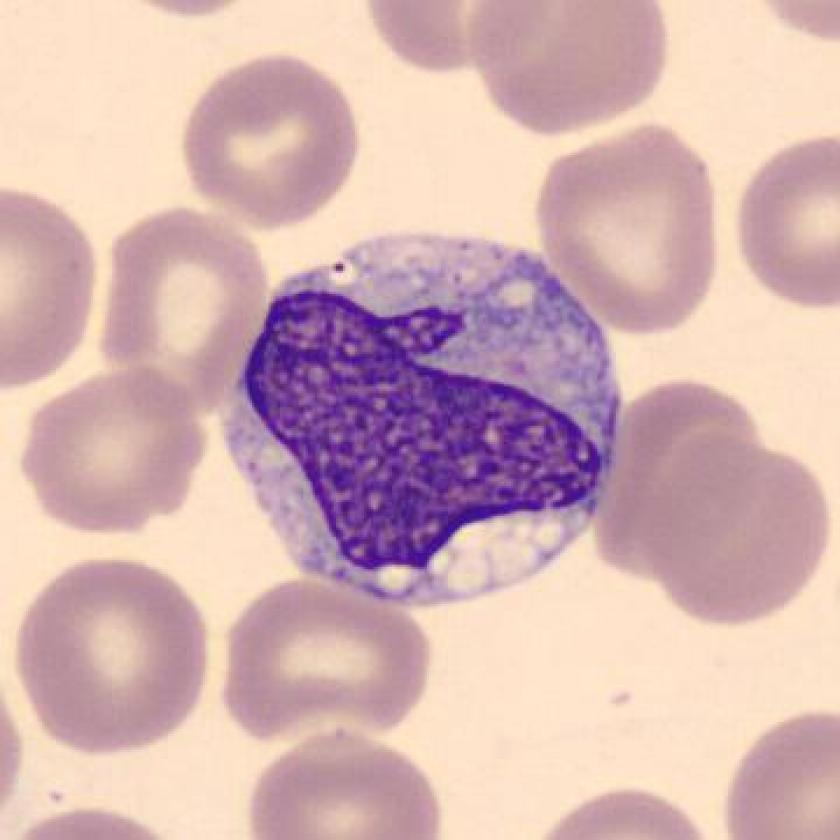monocyte: (202, 216, 643, 621)
